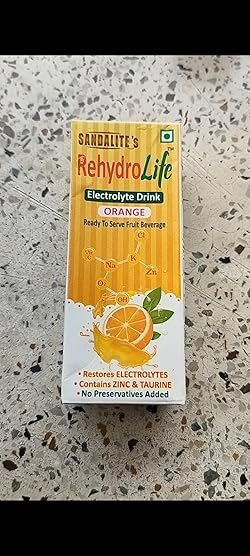drinkpack: (58, 118, 188, 417)
